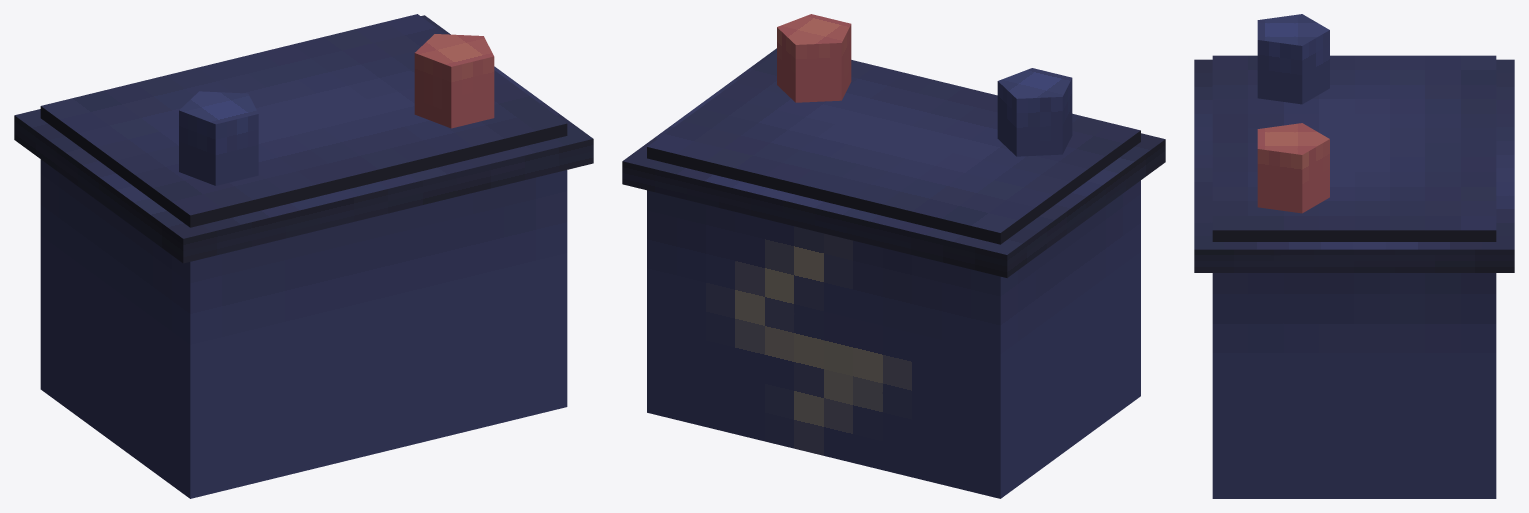
Rendered from battery.gltf.
The picture shows the model from 3 angles, left to right: view 1: azimuth 30°, elevation 25°; view 2: azimuth 150°, elevation 25°; view 3: azimuth 270°, elevation 25°; orthographic projection. The views are drawn at different scales.
Parts seen in each view (by area): view 1: Base, Plus, Minus; view 2: Base, Minus, Plus; view 3: Base, Plus, Minus.
Boxes of the visible parts, left/top/right/bottom form: Base: left=14, top=14, right=593, bottom=498; Plus: left=414, top=34, right=494, bottom=128; Minus: left=179, top=91, right=258, bottom=185; Base: left=622, top=48, right=1165, bottom=498; Minus: left=997, top=68, right=1072, bottom=156; Plus: left=777, top=14, right=851, bottom=102; Base: left=1194, top=55, right=1514, bottom=498; Plus: left=1257, top=123, right=1329, bottom=213; Minus: left=1257, top=14, right=1329, bottom=104.
Bounding box in the file's own units: 0.2177 × 0.175 × 0.1552.
Materials: 1 (1 with a texture image).
